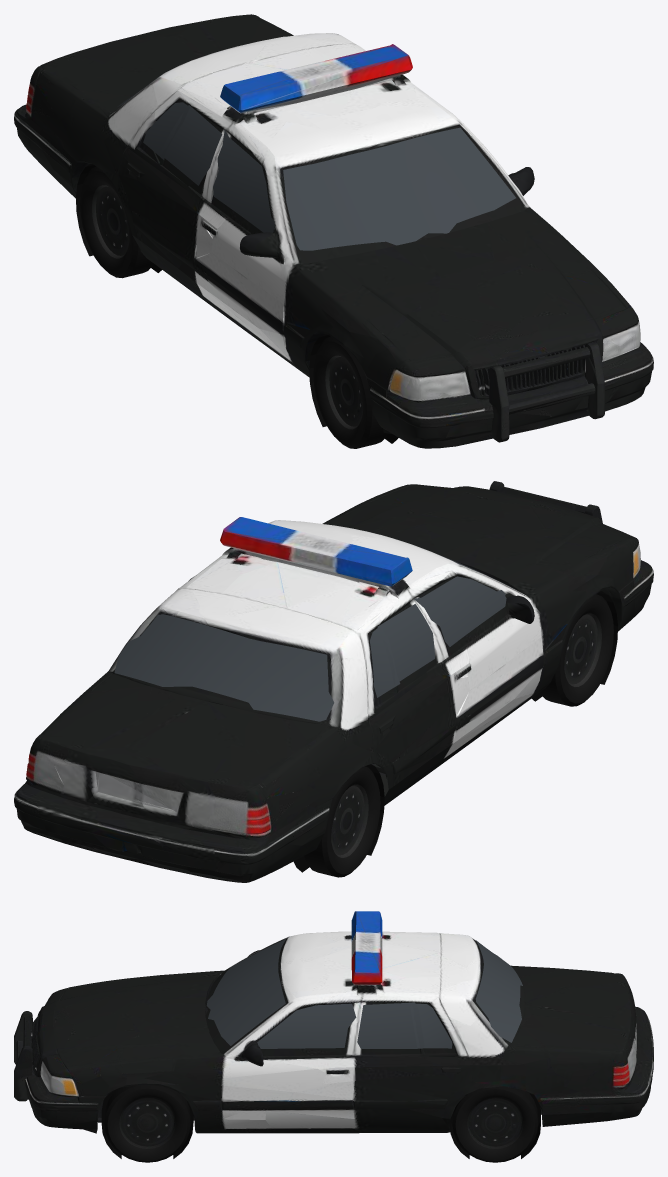
Rendered from police.glb.
3 renders of one model, top to bottom at view 1: azimuth 30°, elevation 25°; view 2: azimuth 150°, elevation 25°; view 3: azimuth 270°, elevation 25°, orthographic. The views are drawn at different scales.
Parts seen in each view (by area): view 1: body, glass, wheel_fr, wheel_rr; view 2: body, glass, wheel_rr, wheel_fr; view 3: body, glass, wheel_fl, wheel_rl.
Part boxes in pixels (<box>): body: <box>14,14,653,448</box>; glass: <box>117,74,515,250</box>; wheel_fr: <box>313,336,387,448</box>; wheel_rr: <box>80,166,153,278</box>; body: <box>14,481,653,882</box>; glass: <box>114,554,511,721</box>; wheel_rr: <box>304,766,380,877</box>; wheel_fr: <box>540,594,613,706</box>; body: <box>14,911,653,1158</box>; glass: <box>206,939,522,1048</box>; wheel_fl: <box>104,1085,190,1162</box>; wheel_rl: <box>452,1086,538,1162</box>.
Size of the model in its own units: 2.07 by 1.61 by 5.25.
Materials: 3 (2 with a texture image).
